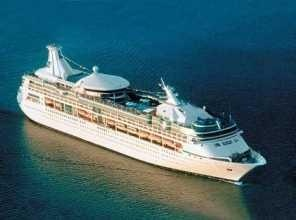youlun: (12, 39, 271, 184)
